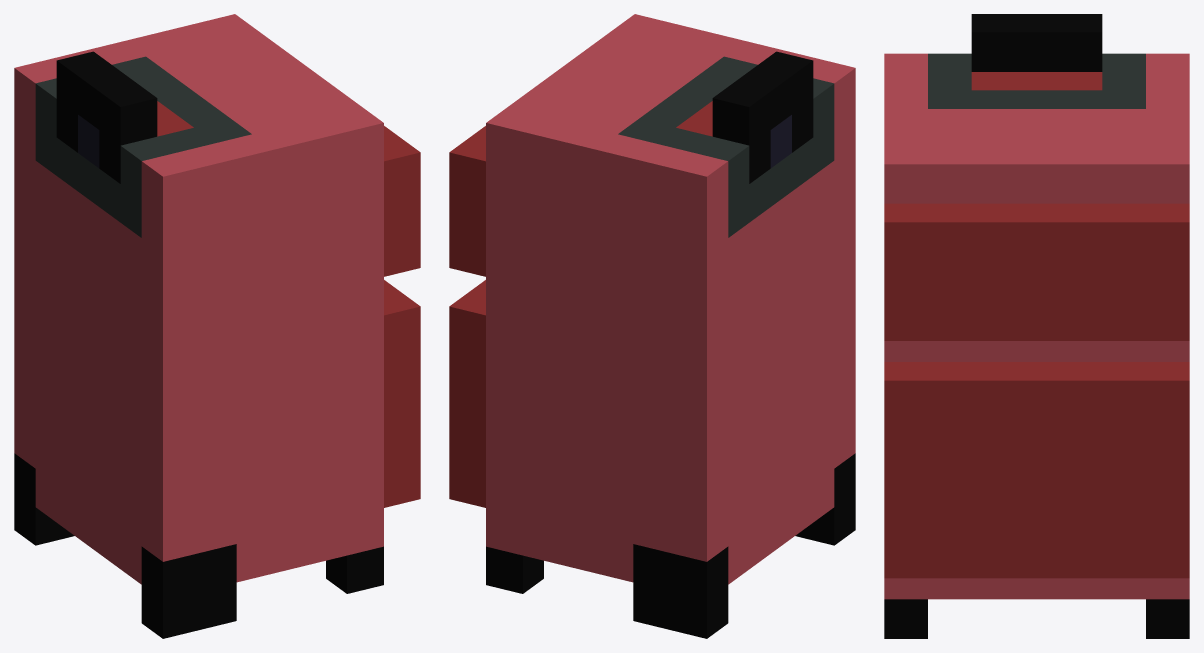
Rendered from suitcase_1.gltf.
3 views of the same model, side by side, from view 1: azimuth 30°, elevation 25°; view 2: azimuth 150°, elevation 25°; view 3: azimuth 270°, elevation 25° (orthographic). The views are drawn at different scales.
Visible parts, largest first — view 1: Layer.1; view 2: Layer.1; view 3: Layer.1.
Boxes of the visible parts, x1,y1,x2,y2 form: Layer.1: (14, 14, 420, 638); Layer.1: (449, 14, 855, 638); Layer.1: (884, 14, 1189, 638).
Size of the model in its own units: 7 by 13 by 7.
